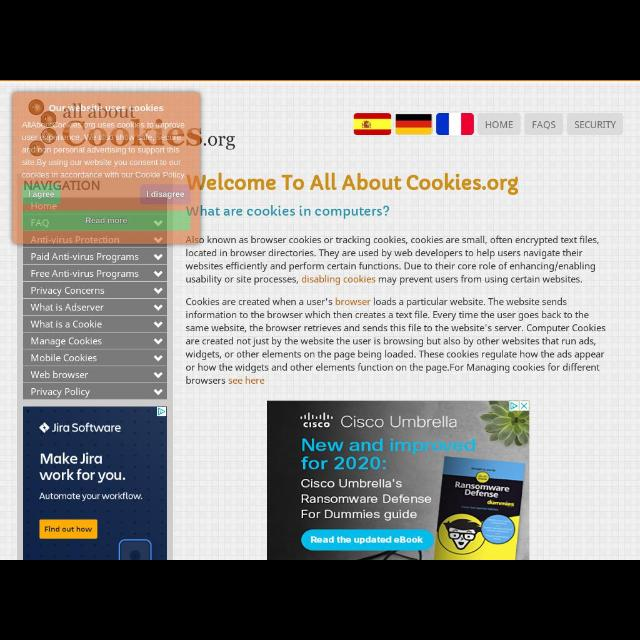icon: (154, 338, 164, 346), (154, 388, 164, 396), (154, 270, 162, 278), (154, 304, 162, 312), (154, 288, 164, 294), (153, 322, 163, 328), (154, 356, 164, 362), (154, 254, 162, 260), (154, 372, 162, 378)
iframe: (267, 401, 529, 559), (24, 407, 166, 559)
image: (354, 113, 392, 135), (436, 113, 474, 135), (396, 114, 432, 134)
panel: (23, 248, 167, 400)
text: (186, 298, 606, 384), (184, 233, 596, 284), (187, 170, 518, 196), (186, 203, 390, 219), (31, 252, 139, 264), (32, 270, 138, 280), (31, 287, 104, 297), (31, 302, 104, 312), (32, 338, 102, 348), (31, 388, 90, 398), (31, 321, 103, 329), (31, 354, 97, 362), (205, 136, 237, 150), (31, 372, 89, 378)
textbutton: (567, 114, 623, 136), (478, 114, 520, 136), (526, 113, 562, 135)
